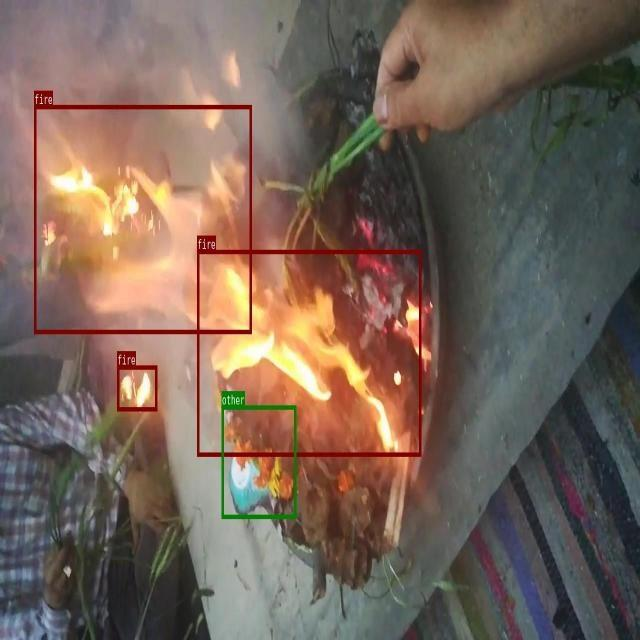fire: (34, 104, 251, 333), (197, 250, 421, 456), (117, 365, 157, 410)
